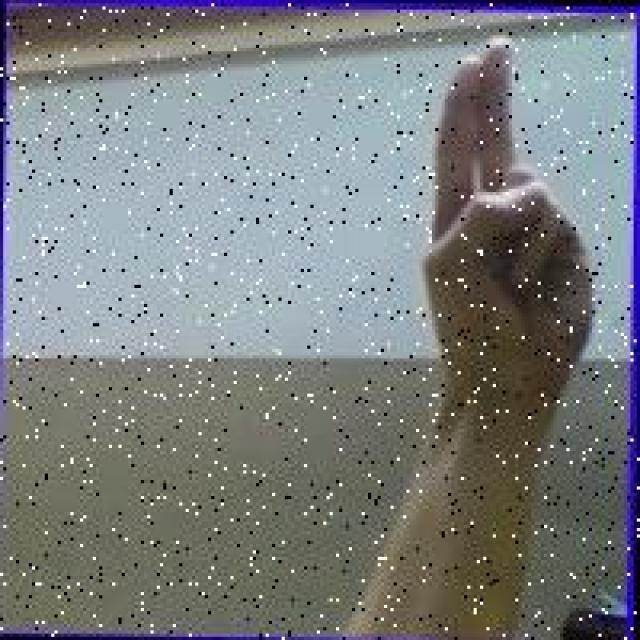U: (410, 26, 608, 419)
